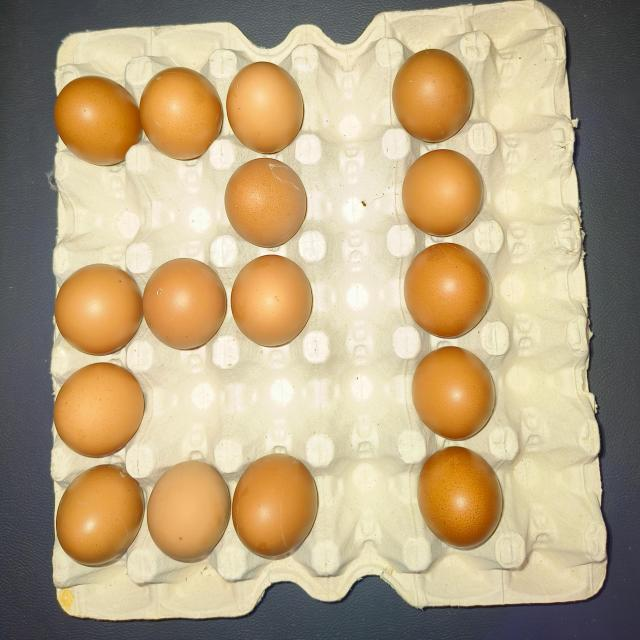Eggs: (416, 351, 514, 450), (54, 262, 145, 360), (239, 443, 321, 551), (148, 241, 232, 345), (49, 68, 136, 168), (225, 155, 319, 244), (56, 360, 142, 456), (422, 447, 507, 544), (145, 469, 226, 558), (141, 58, 214, 155), (399, 55, 475, 148), (51, 475, 138, 554), (412, 162, 497, 241), (417, 240, 482, 334), (239, 268, 315, 345), (232, 67, 298, 146)
